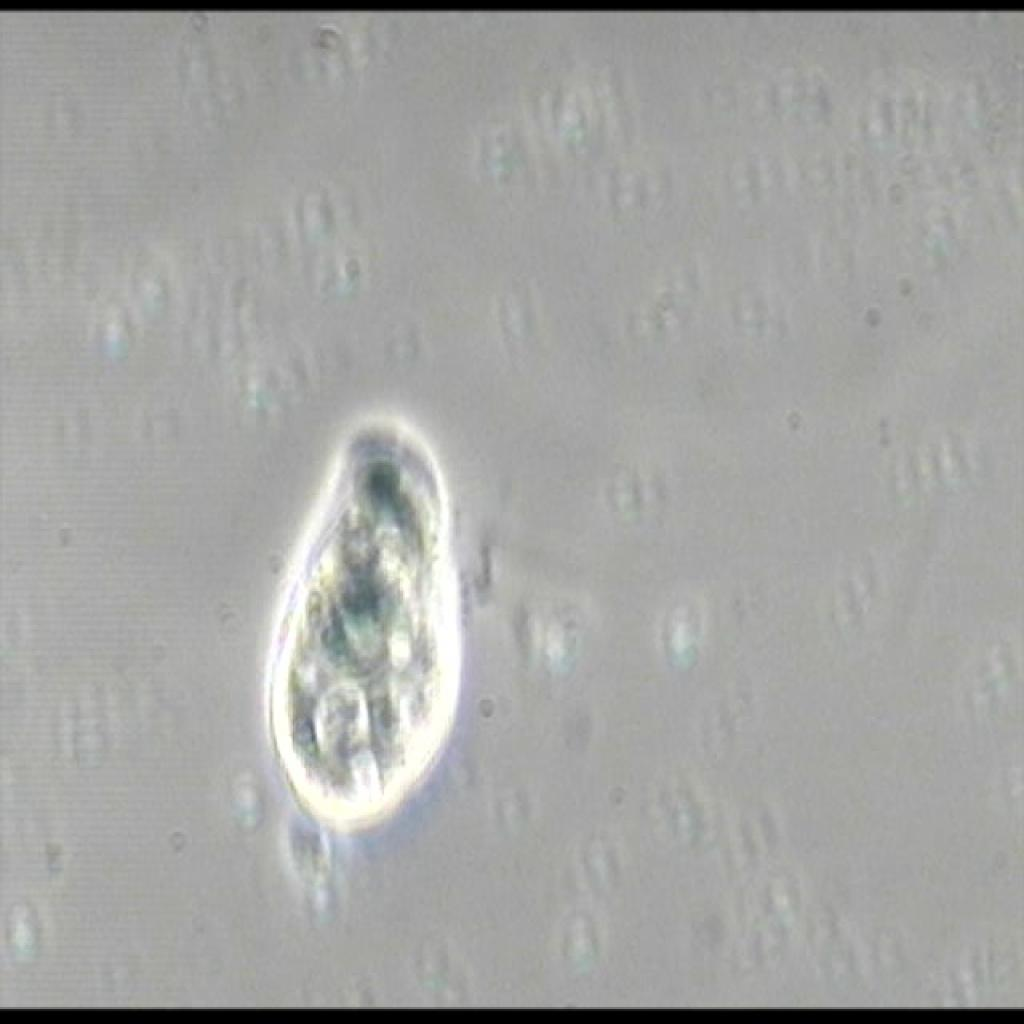Chilodonella: (250, 404, 464, 923)
